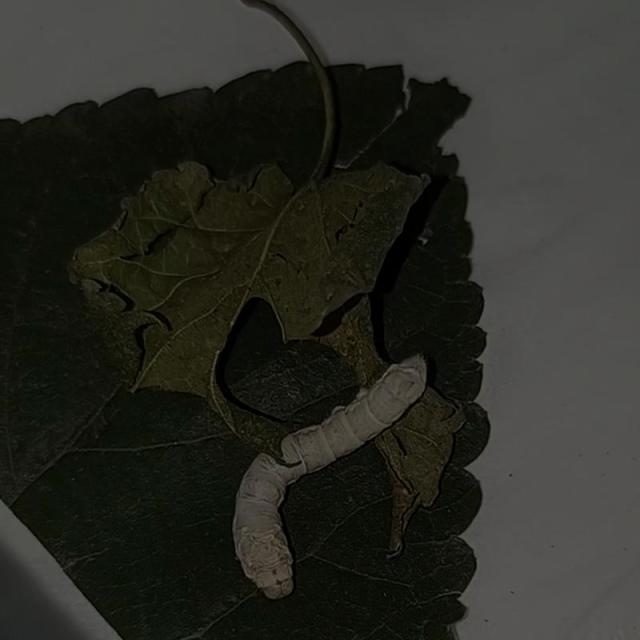Healthy: (213, 318, 467, 618)
